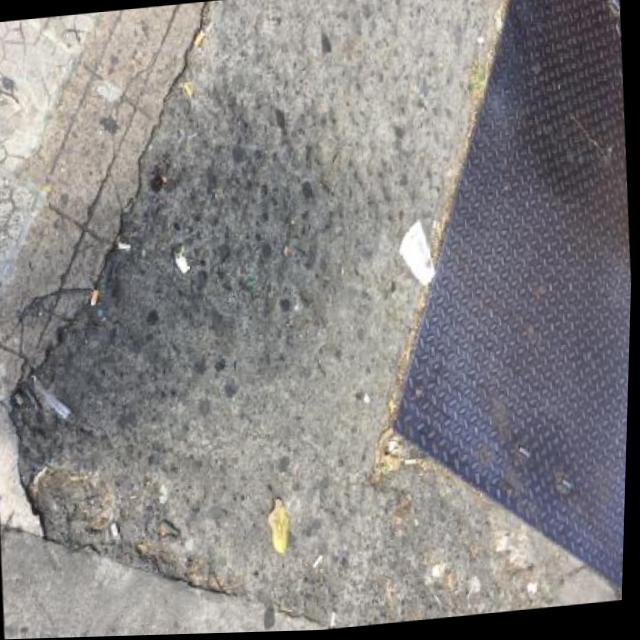cardboard: (393, 219, 437, 289)
